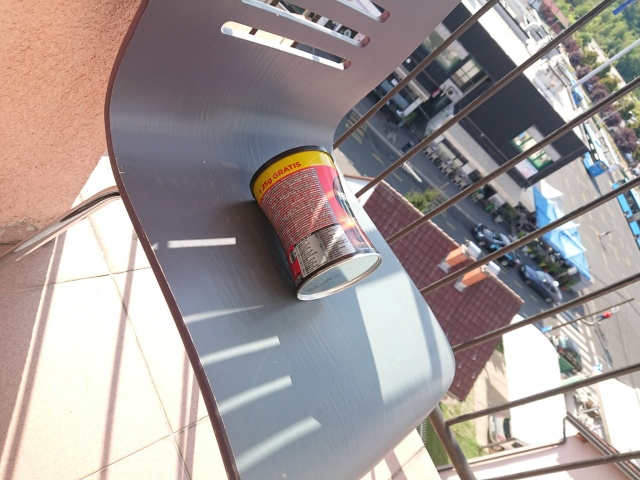Nescafe Classic 225g: (246, 141, 385, 304)
